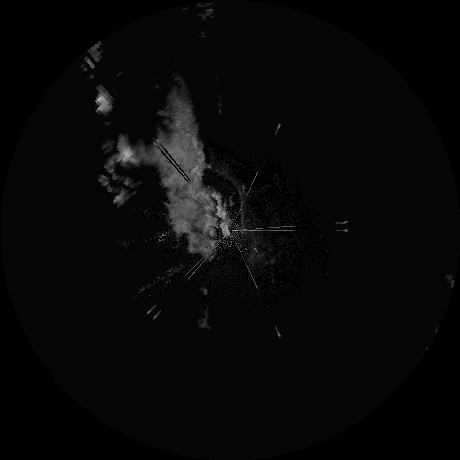frontgust: (231, 177, 246, 226)
